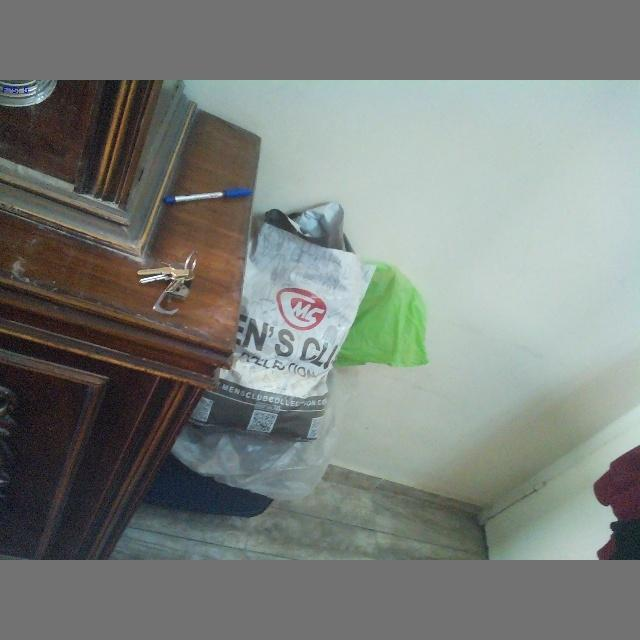Keys: (125, 248, 208, 322)
